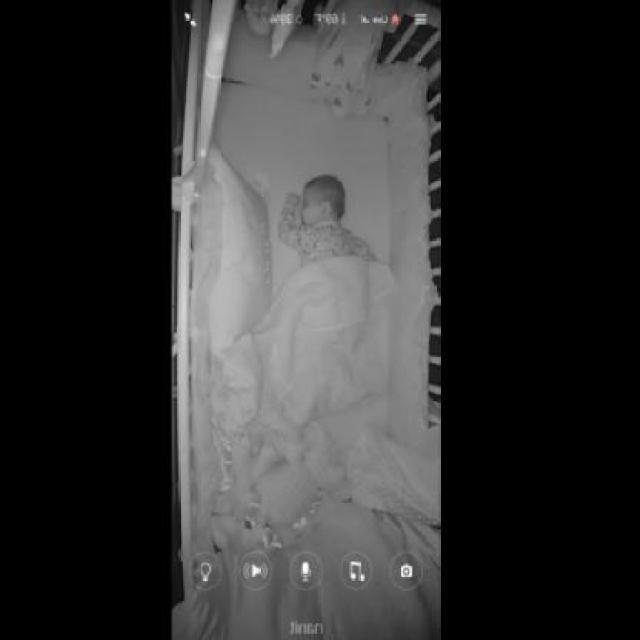baby: (276, 173, 387, 404)
